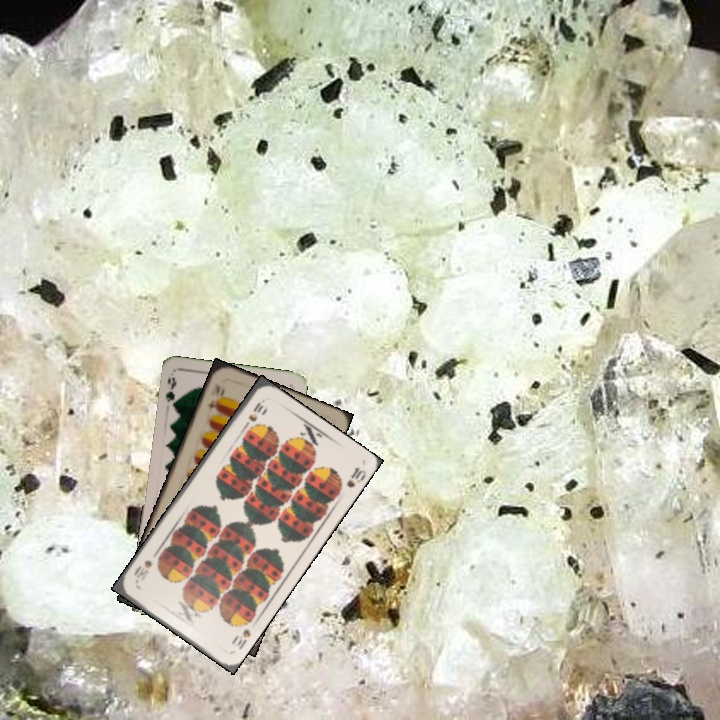E10: (205, 380, 228, 413)
G9: (161, 373, 179, 412)
S10: (239, 395, 267, 431), (227, 625, 254, 652)
